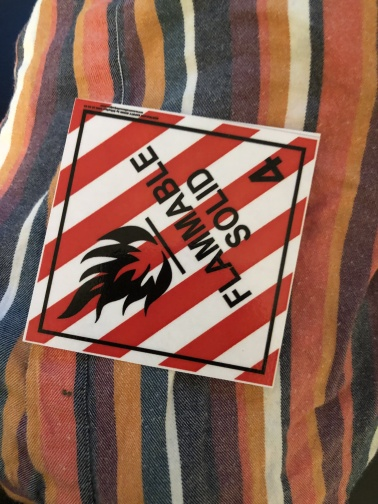FlammableSolid: (45, 102, 283, 381)
